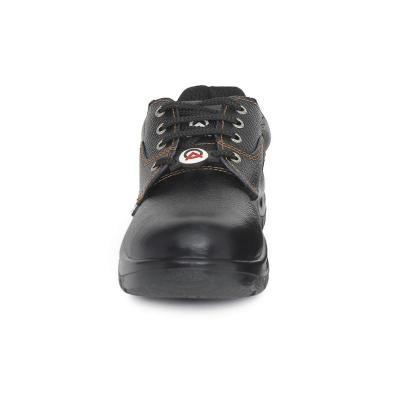bota: (114, 82, 274, 304)
